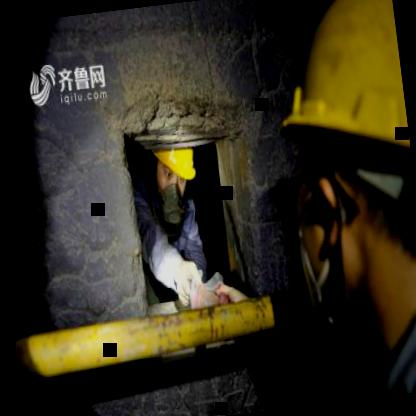helmet: (267, 0, 416, 384), (151, 142, 200, 197)
